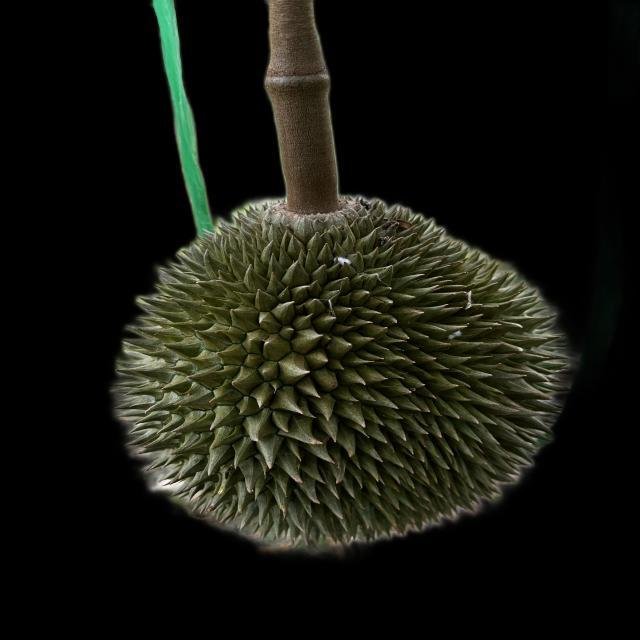immature: (107, 191, 569, 549)
